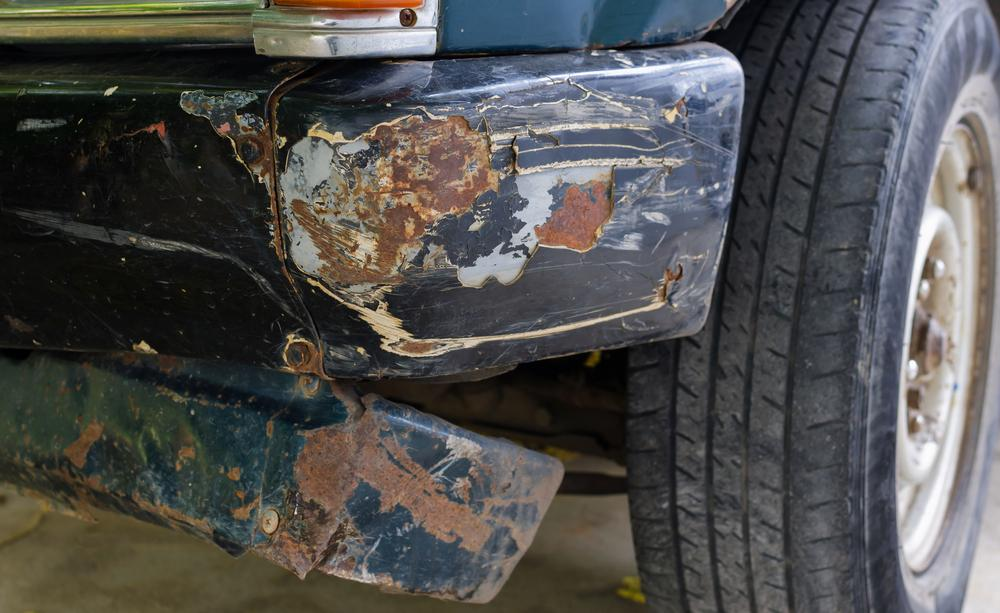scratch: (276, 92, 704, 360)
